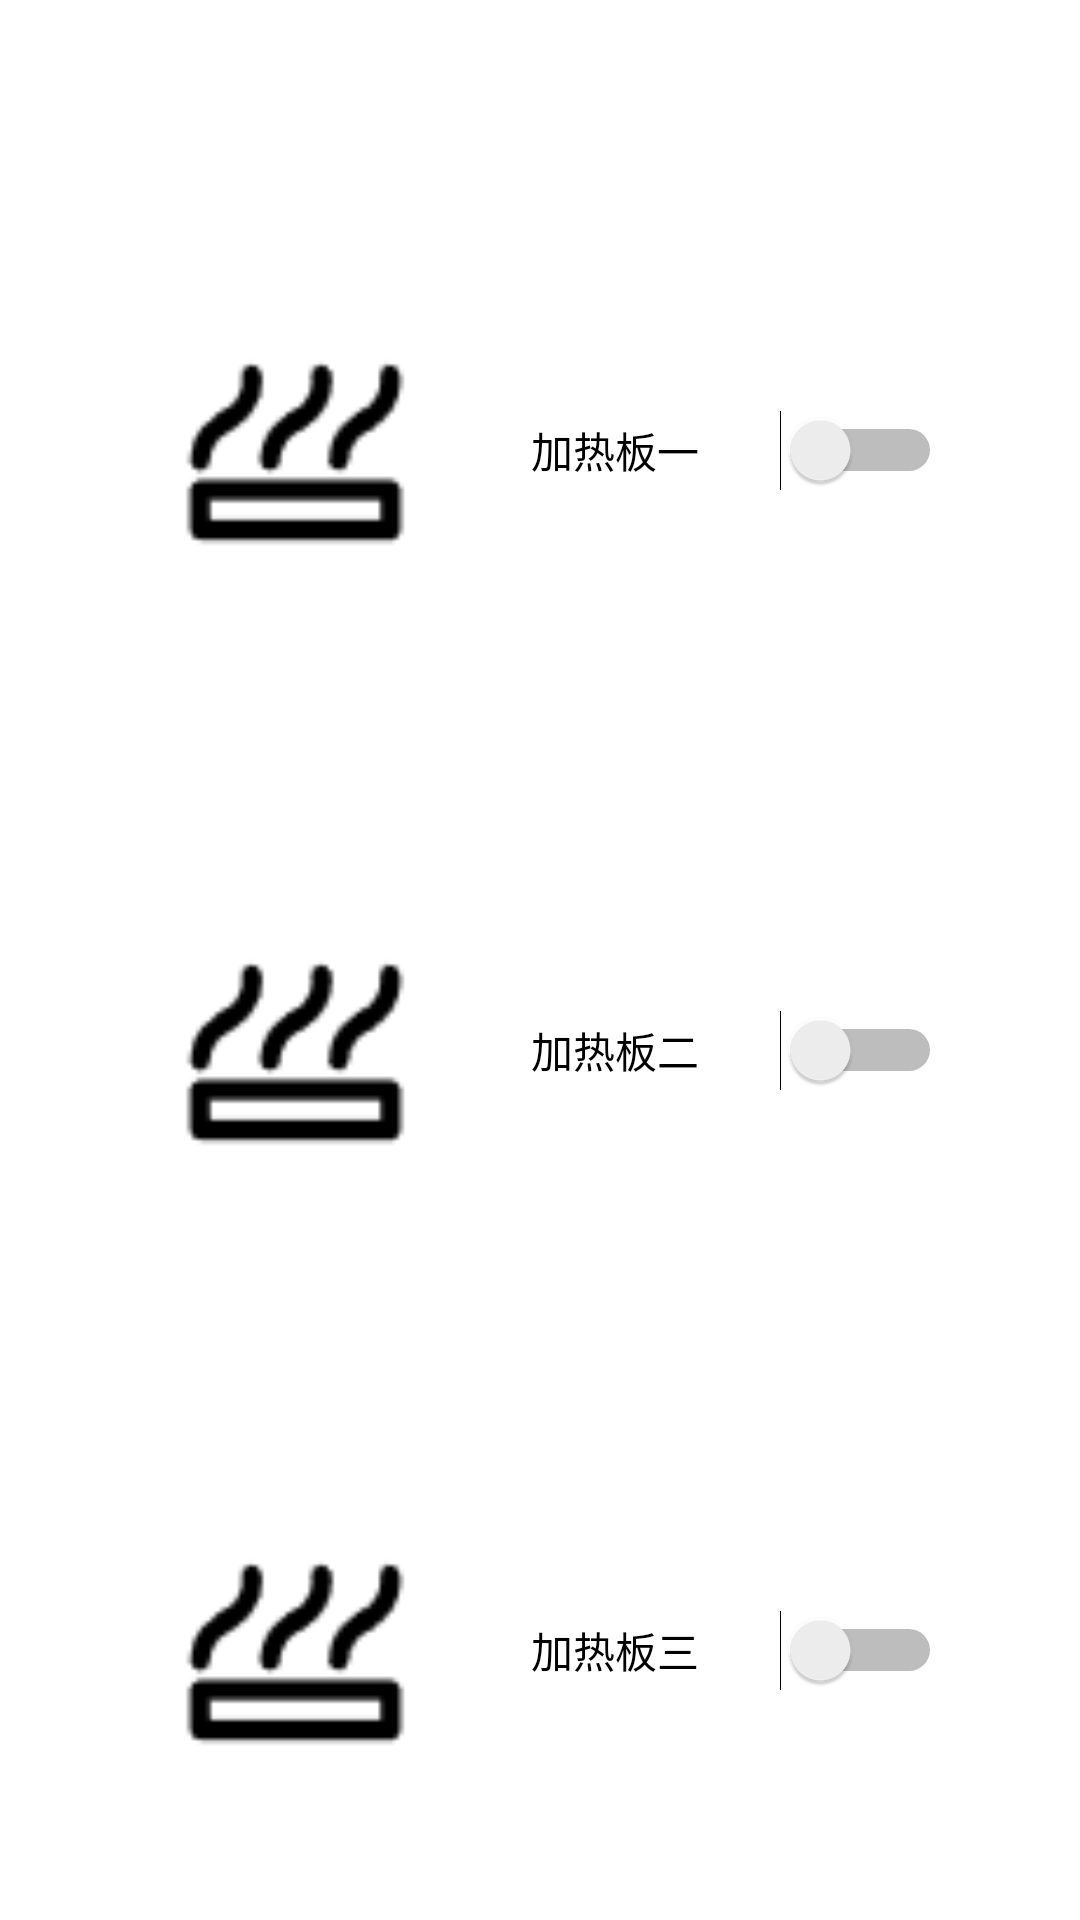

Point at icon controls on the screen. Image size 1080x1920, points as (x,y).
jiare: (295,453), (295,1053), (295,1653)
